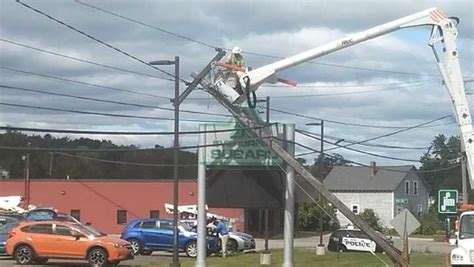pole: (163, 41, 423, 267)
